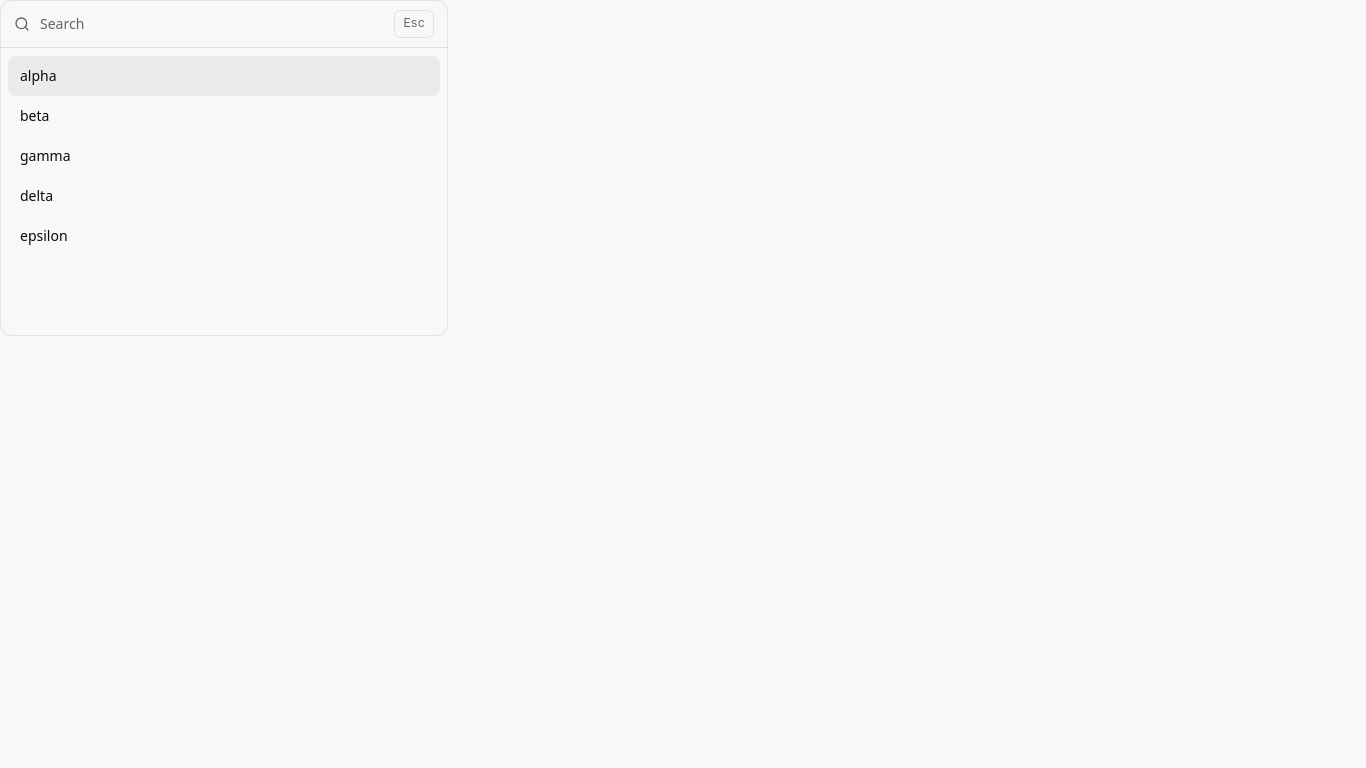
Test: MorphingSearch async results › keeps what the user types, and filters by it
Step 1. Type "gam" into the dropdown → (212, 24), box [40,4,384,44]
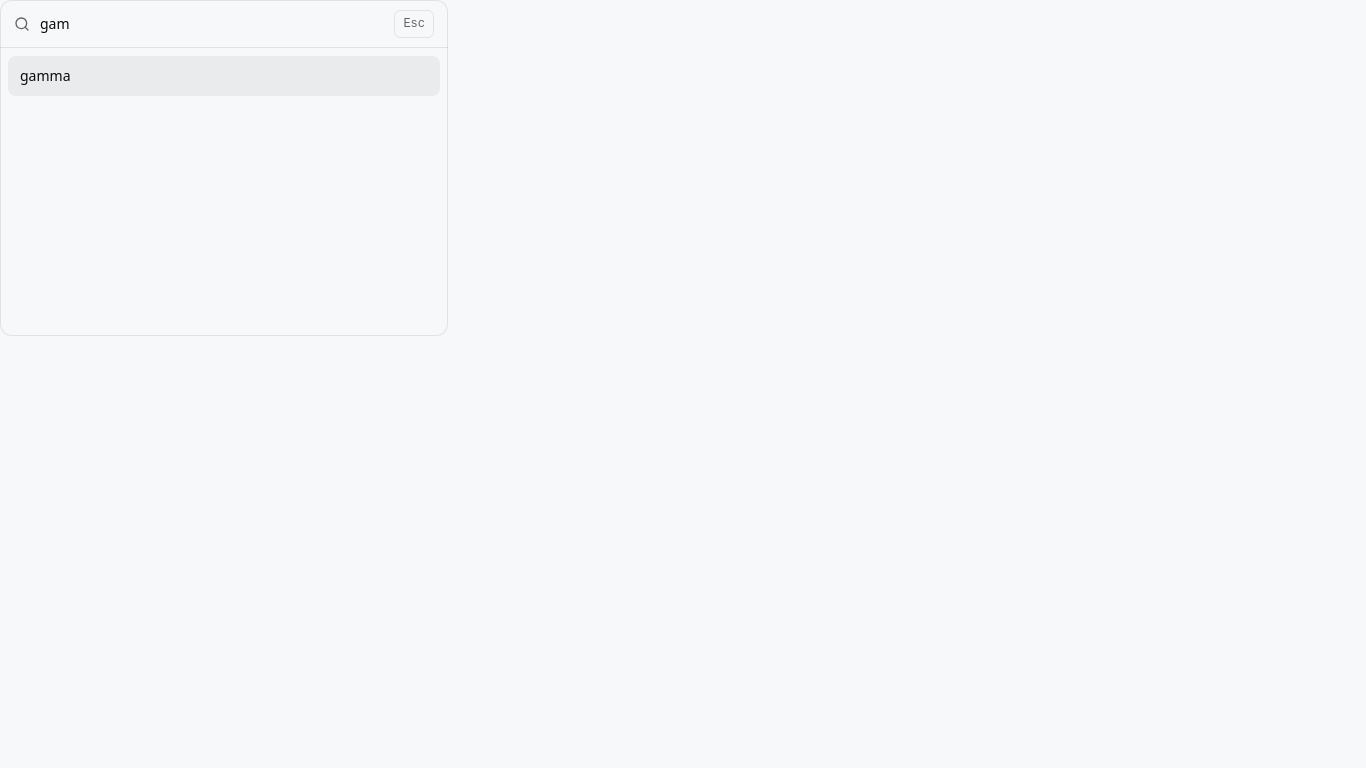
Result: the options read "gamma", in this order at [8,56,440,96]
